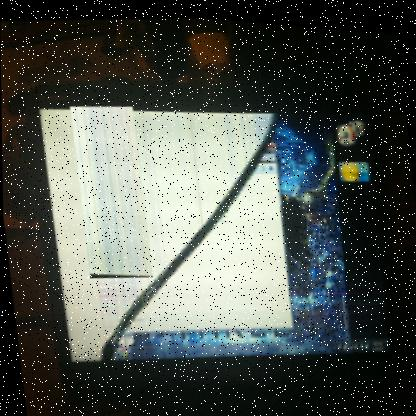lines: (69, 98, 153, 281)
